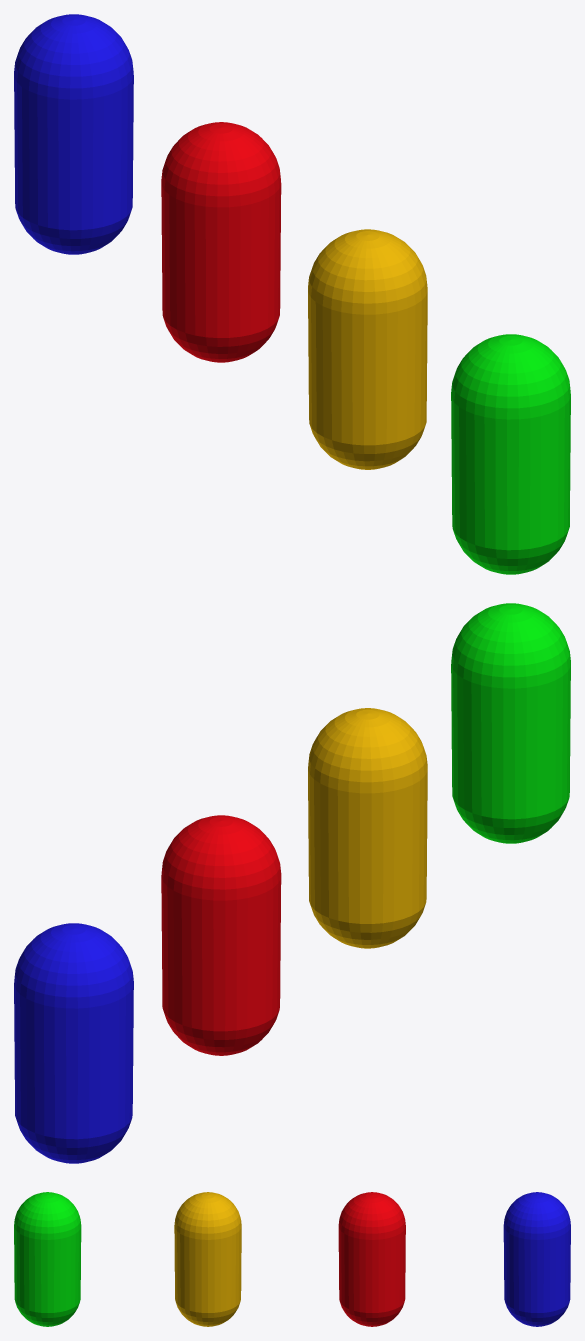
The model's file is player_sheet.glb.
3 views of the same model, one above another, from view 1: azimuth 30°, elevation 25°; view 2: azimuth 150°, elevation 25°; view 3: azimuth 270°, elevation 25° (orthographic). The views are drawn at different scales.
Parts seen in each view (by area): view 1: Sphere.001, Sphere.002, Sphere, Sphere.003; view 2: Sphere.001, Sphere.002, Sphere, Sphere.003; view 3: Sphere.002, Sphere.001, Sphere, Sphere.003.
Part boxes in pixels (x1,y1,x2,y2): Sphere.001: (161,122,281,362); Sphere.002: (308,229,427,469); Sphere: (14,14,133,254); Sphere.003: (451,334,570,574); Sphere.001: (161,815,281,1055); Sphere.002: (308,708,427,948); Sphere: (14,923,133,1163); Sphere.003: (451,603,570,843); Sphere.002: (174,1192,241,1326); Sphere.001: (338,1192,405,1326); Sphere: (503,1192,570,1326); Sphere.003: (14,1192,81,1326).
Bounding box in the file's own units: 0.8205 × 1.73 × 6.79.
